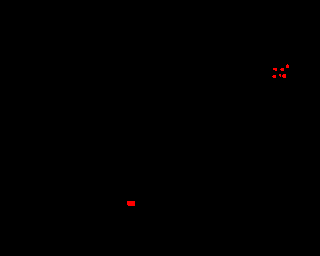Target: (127, 201, 135, 206), (282, 74, 286, 78), (286, 64, 289, 68), (273, 68, 277, 71), (280, 68, 284, 71), (272, 75, 276, 78), (279, 74, 281, 77)
